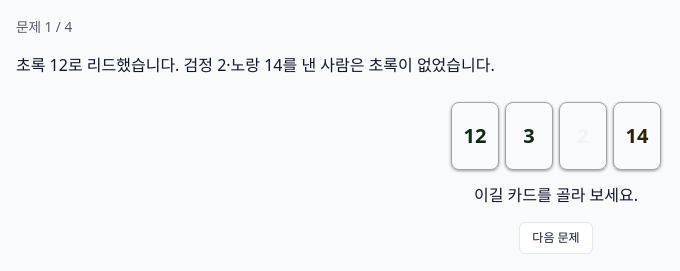
it: TrickQuiz › 다음 문제로 4문제를 돌고 처음으로 돌아온다
This screenshot has width=680, height=271.
Expected: the text "문제 1 / 4" is shown, [16,17,72,36]
Step 1. Click the button "다음 문제" → (556, 238), box [519,222,593,254]
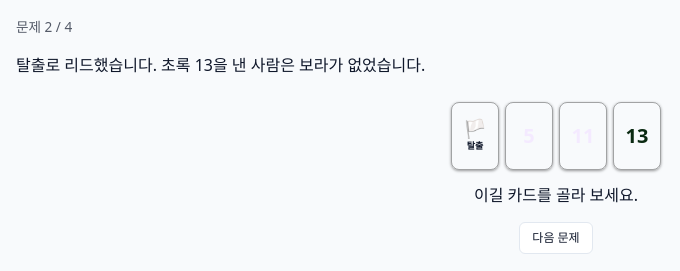
Now the text "문제 2 / 4" is shown, box [16,17,72,36]
Step 2. Click the button "다음 문제" → (556, 238), box [519,222,593,254]
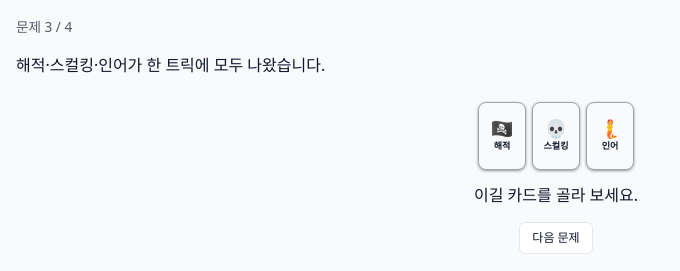
Step 3. Click the button "다음 문제" → (556, 238), box [519,222,593,254]
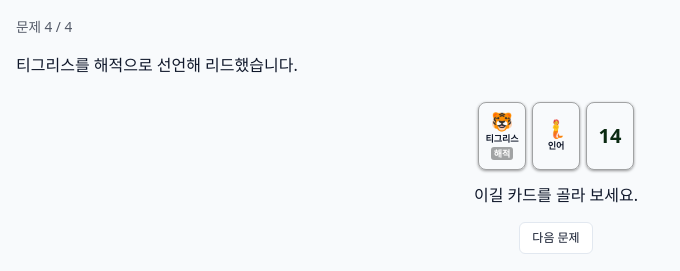
Now the text "문제 4 / 4" is shown, box [16,17,72,36]
Step 4. Click the button "다음 문제" → (556, 238), box [519,222,593,254]
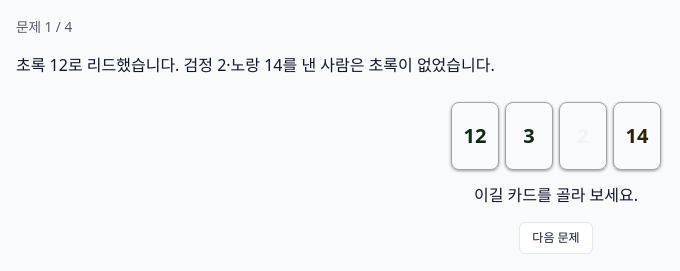
Now the text "문제 1 / 4" is shown, box [16,17,72,36]
